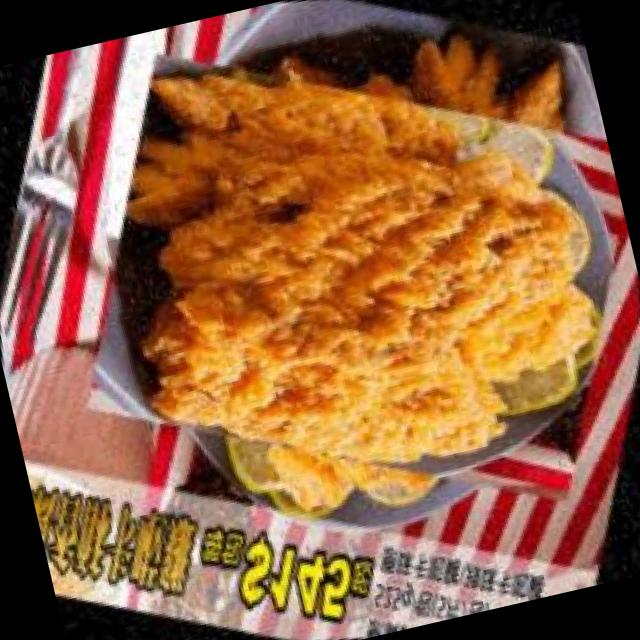fried_chicken: (4, 0, 640, 634)
